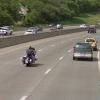Motorcycle: (18, 42, 43, 74)
